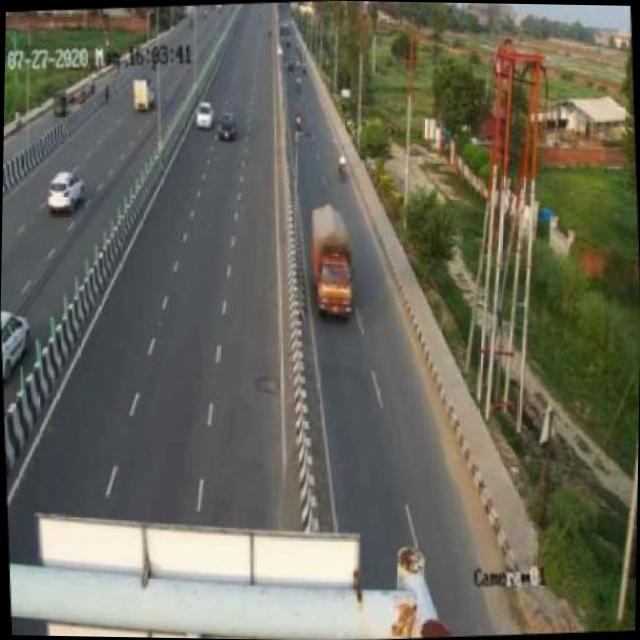car: (42, 162, 88, 220), (217, 109, 242, 145), (192, 98, 215, 135)
